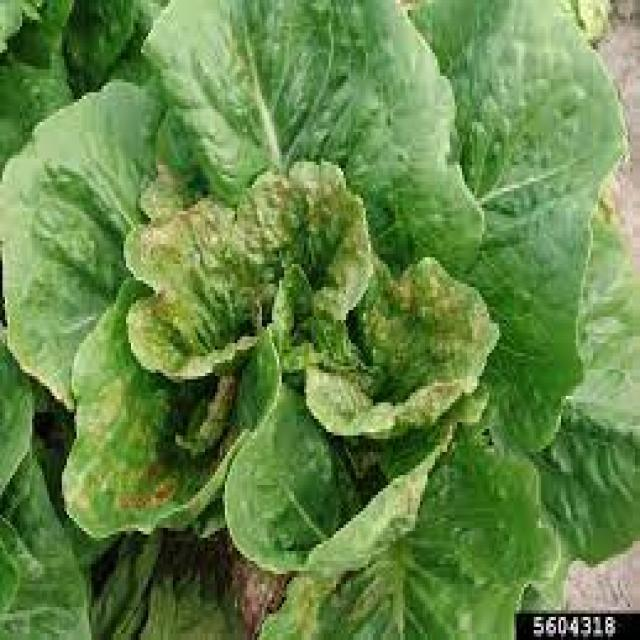Lettuce Mosaic Virus: (32, 18, 605, 532)
